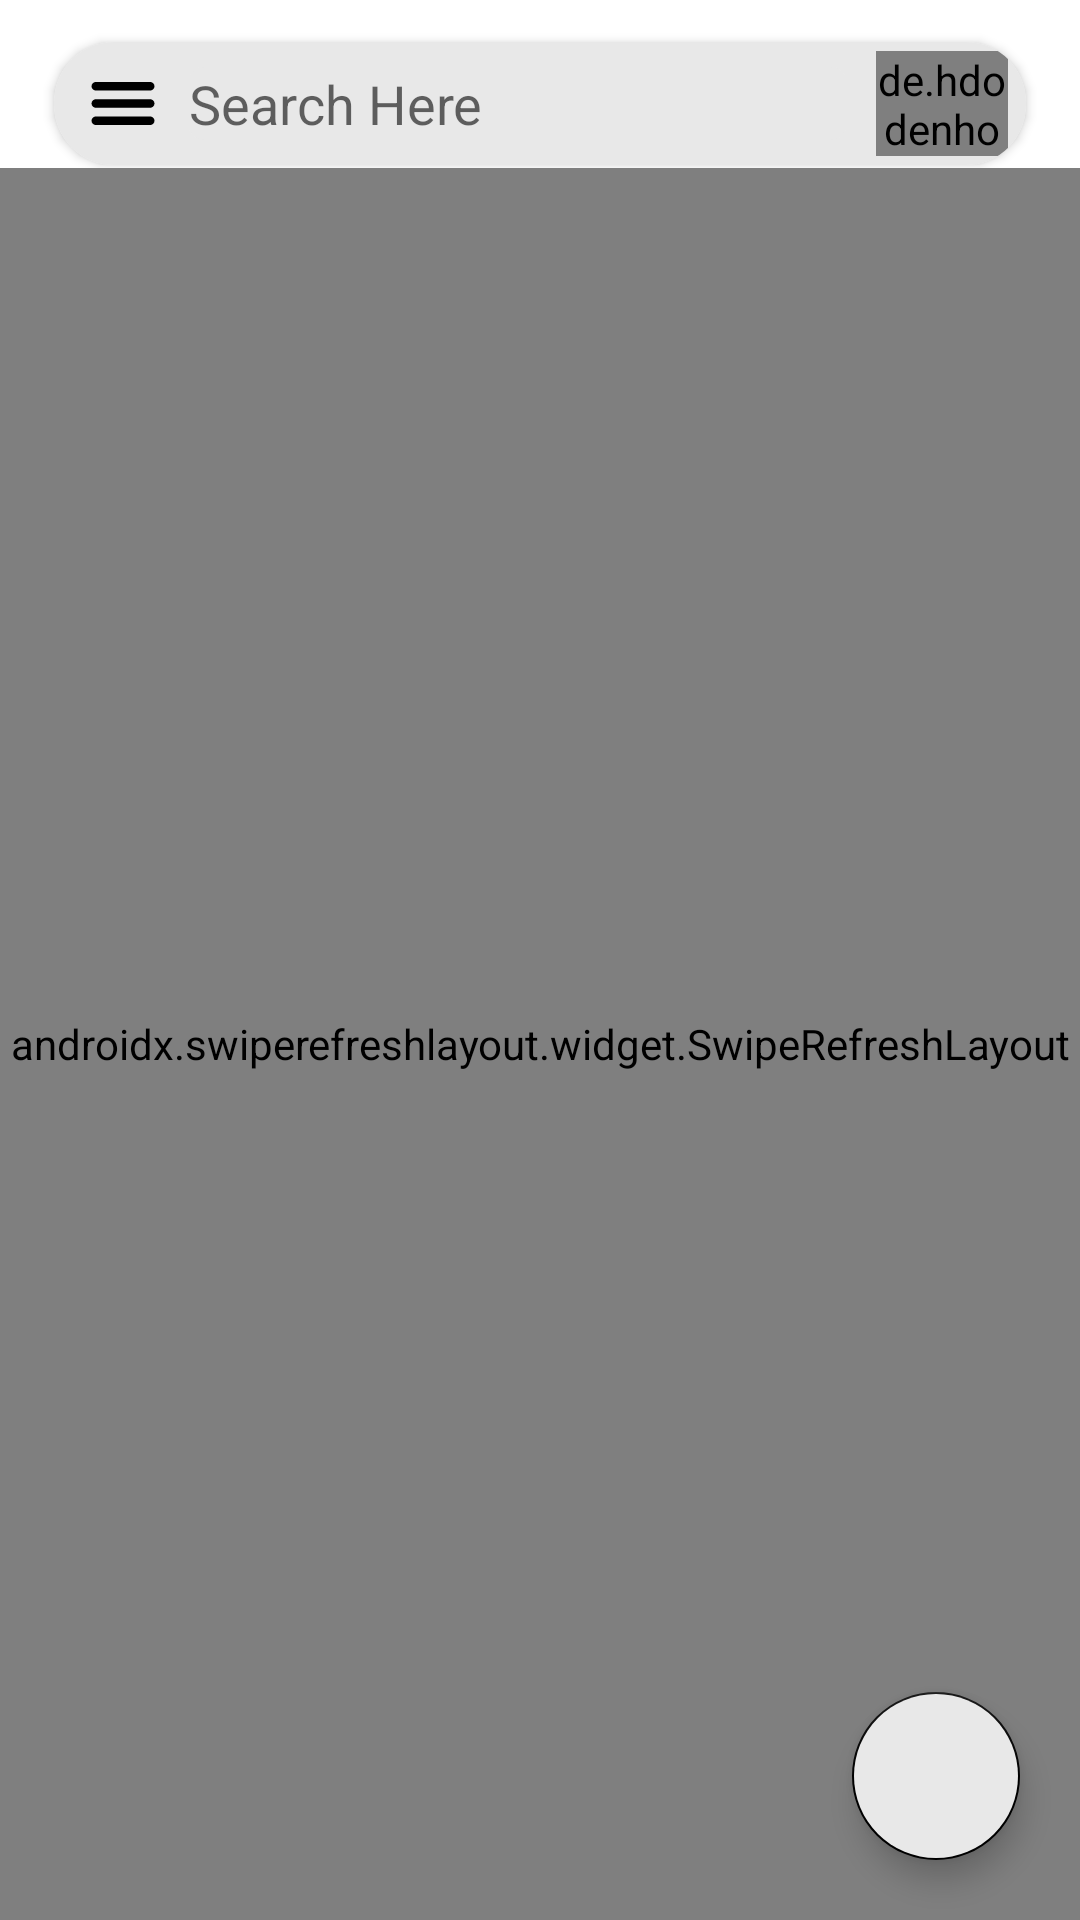

Locate icon controls on the screen. Image size 1080px×1920px, boxes as rect(x1, y1, x2, y2).
menu: rect(91, 82, 155, 125)
